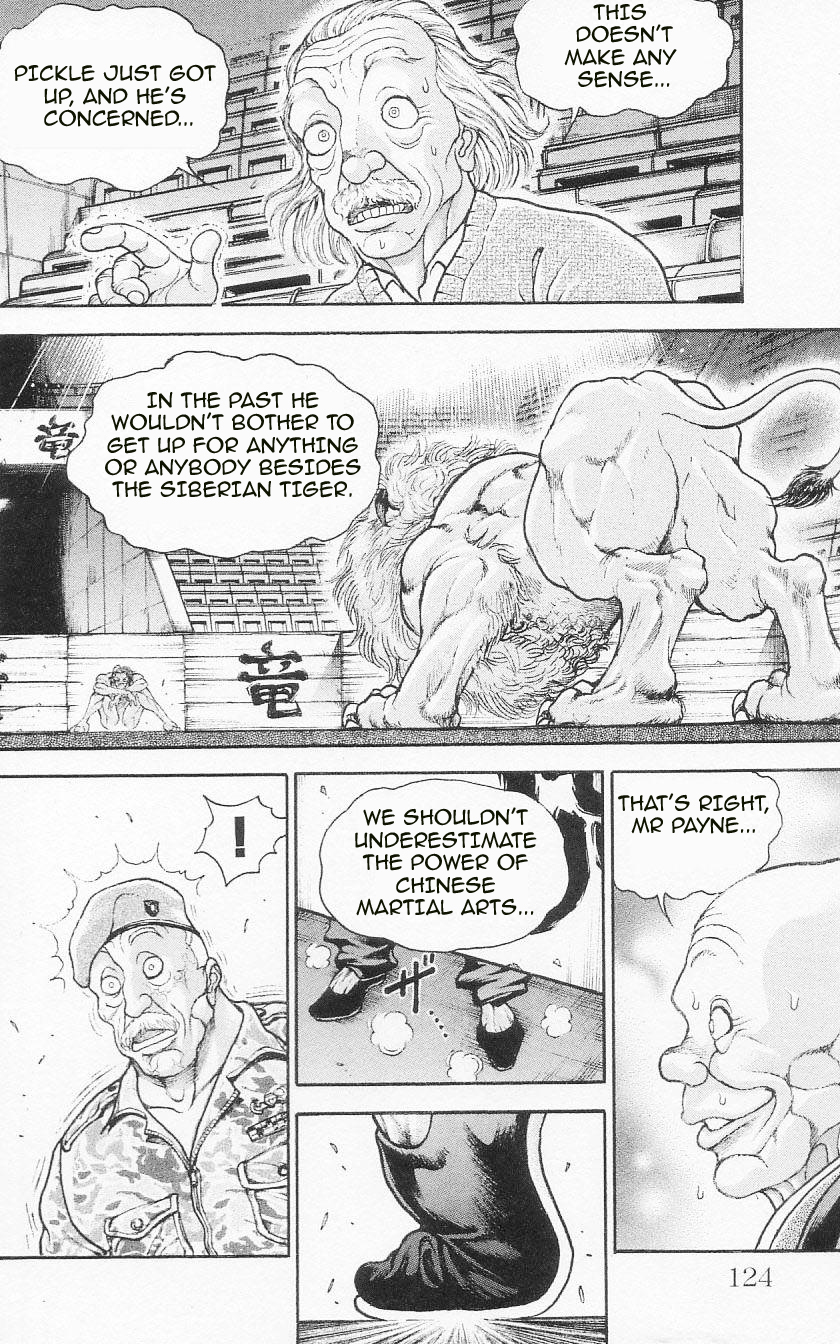Baloon: (68, 349, 374, 563), (1, 6, 227, 196), (323, 778, 572, 943), (510, 1, 743, 118), (612, 769, 782, 902), (198, 796, 288, 886)
Vignetta: (1, 327, 840, 749), (1, 1, 743, 306), (1, 772, 288, 1259), (614, 767, 840, 1253), (294, 769, 602, 1088), (299, 1110, 608, 1344)
